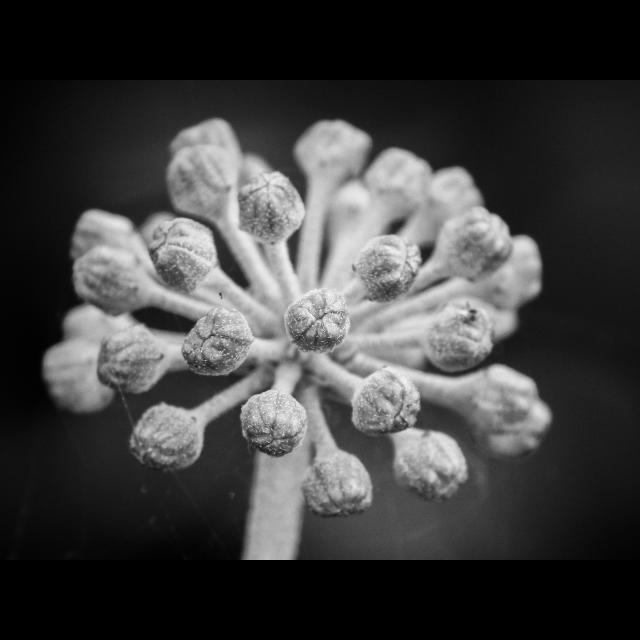Flower: (40, 116, 556, 522)
